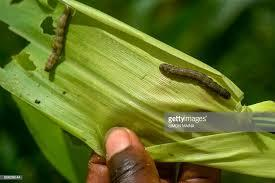fallarmy_worm: (156, 61, 235, 99), (41, 10, 66, 72)
